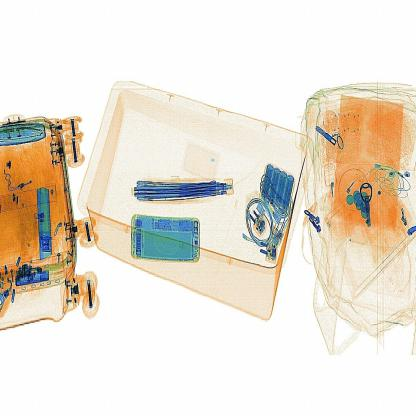pliers: (26, 177, 59, 271)
